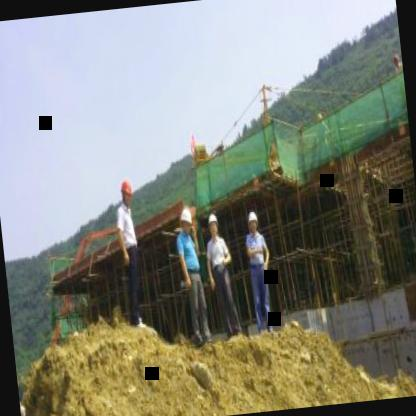helmet: (118, 176, 135, 209), (176, 205, 193, 237), (245, 206, 260, 233), (206, 209, 218, 237)
